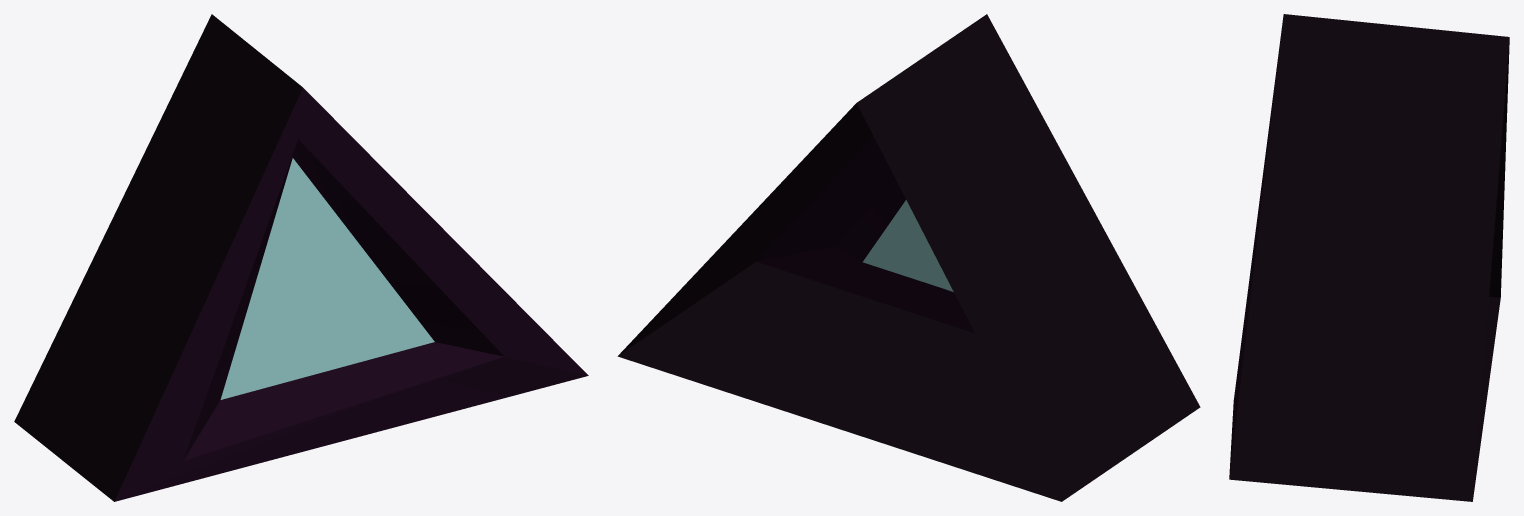
Rendered from c_house_window_triangle_ad.fbx.
The picture shows the model from 3 angles, left to right: view 1: azimuth 30°, elevation 25°; view 2: azimuth 150°, elevation 25°; view 3: azimuth 270°, elevation 25°; orthographic projection. The views are drawn at different scales.
Visible parts, largest first — view 1: c_house_window_triangle_ad; view 2: c_house_window_triangle_ad; view 3: c_house_window_triangle_ad.
Part boxes in pixels (box(x1,y1,x2,y2)): c_house_window_triangle_ad: box(14, 14, 588, 501); c_house_window_triangle_ad: box(617, 14, 1200, 501); c_house_window_triangle_ad: box(1229, 14, 1509, 501).
Size of the model in its own units: 1.83 by 1.34 by 0.9085.
